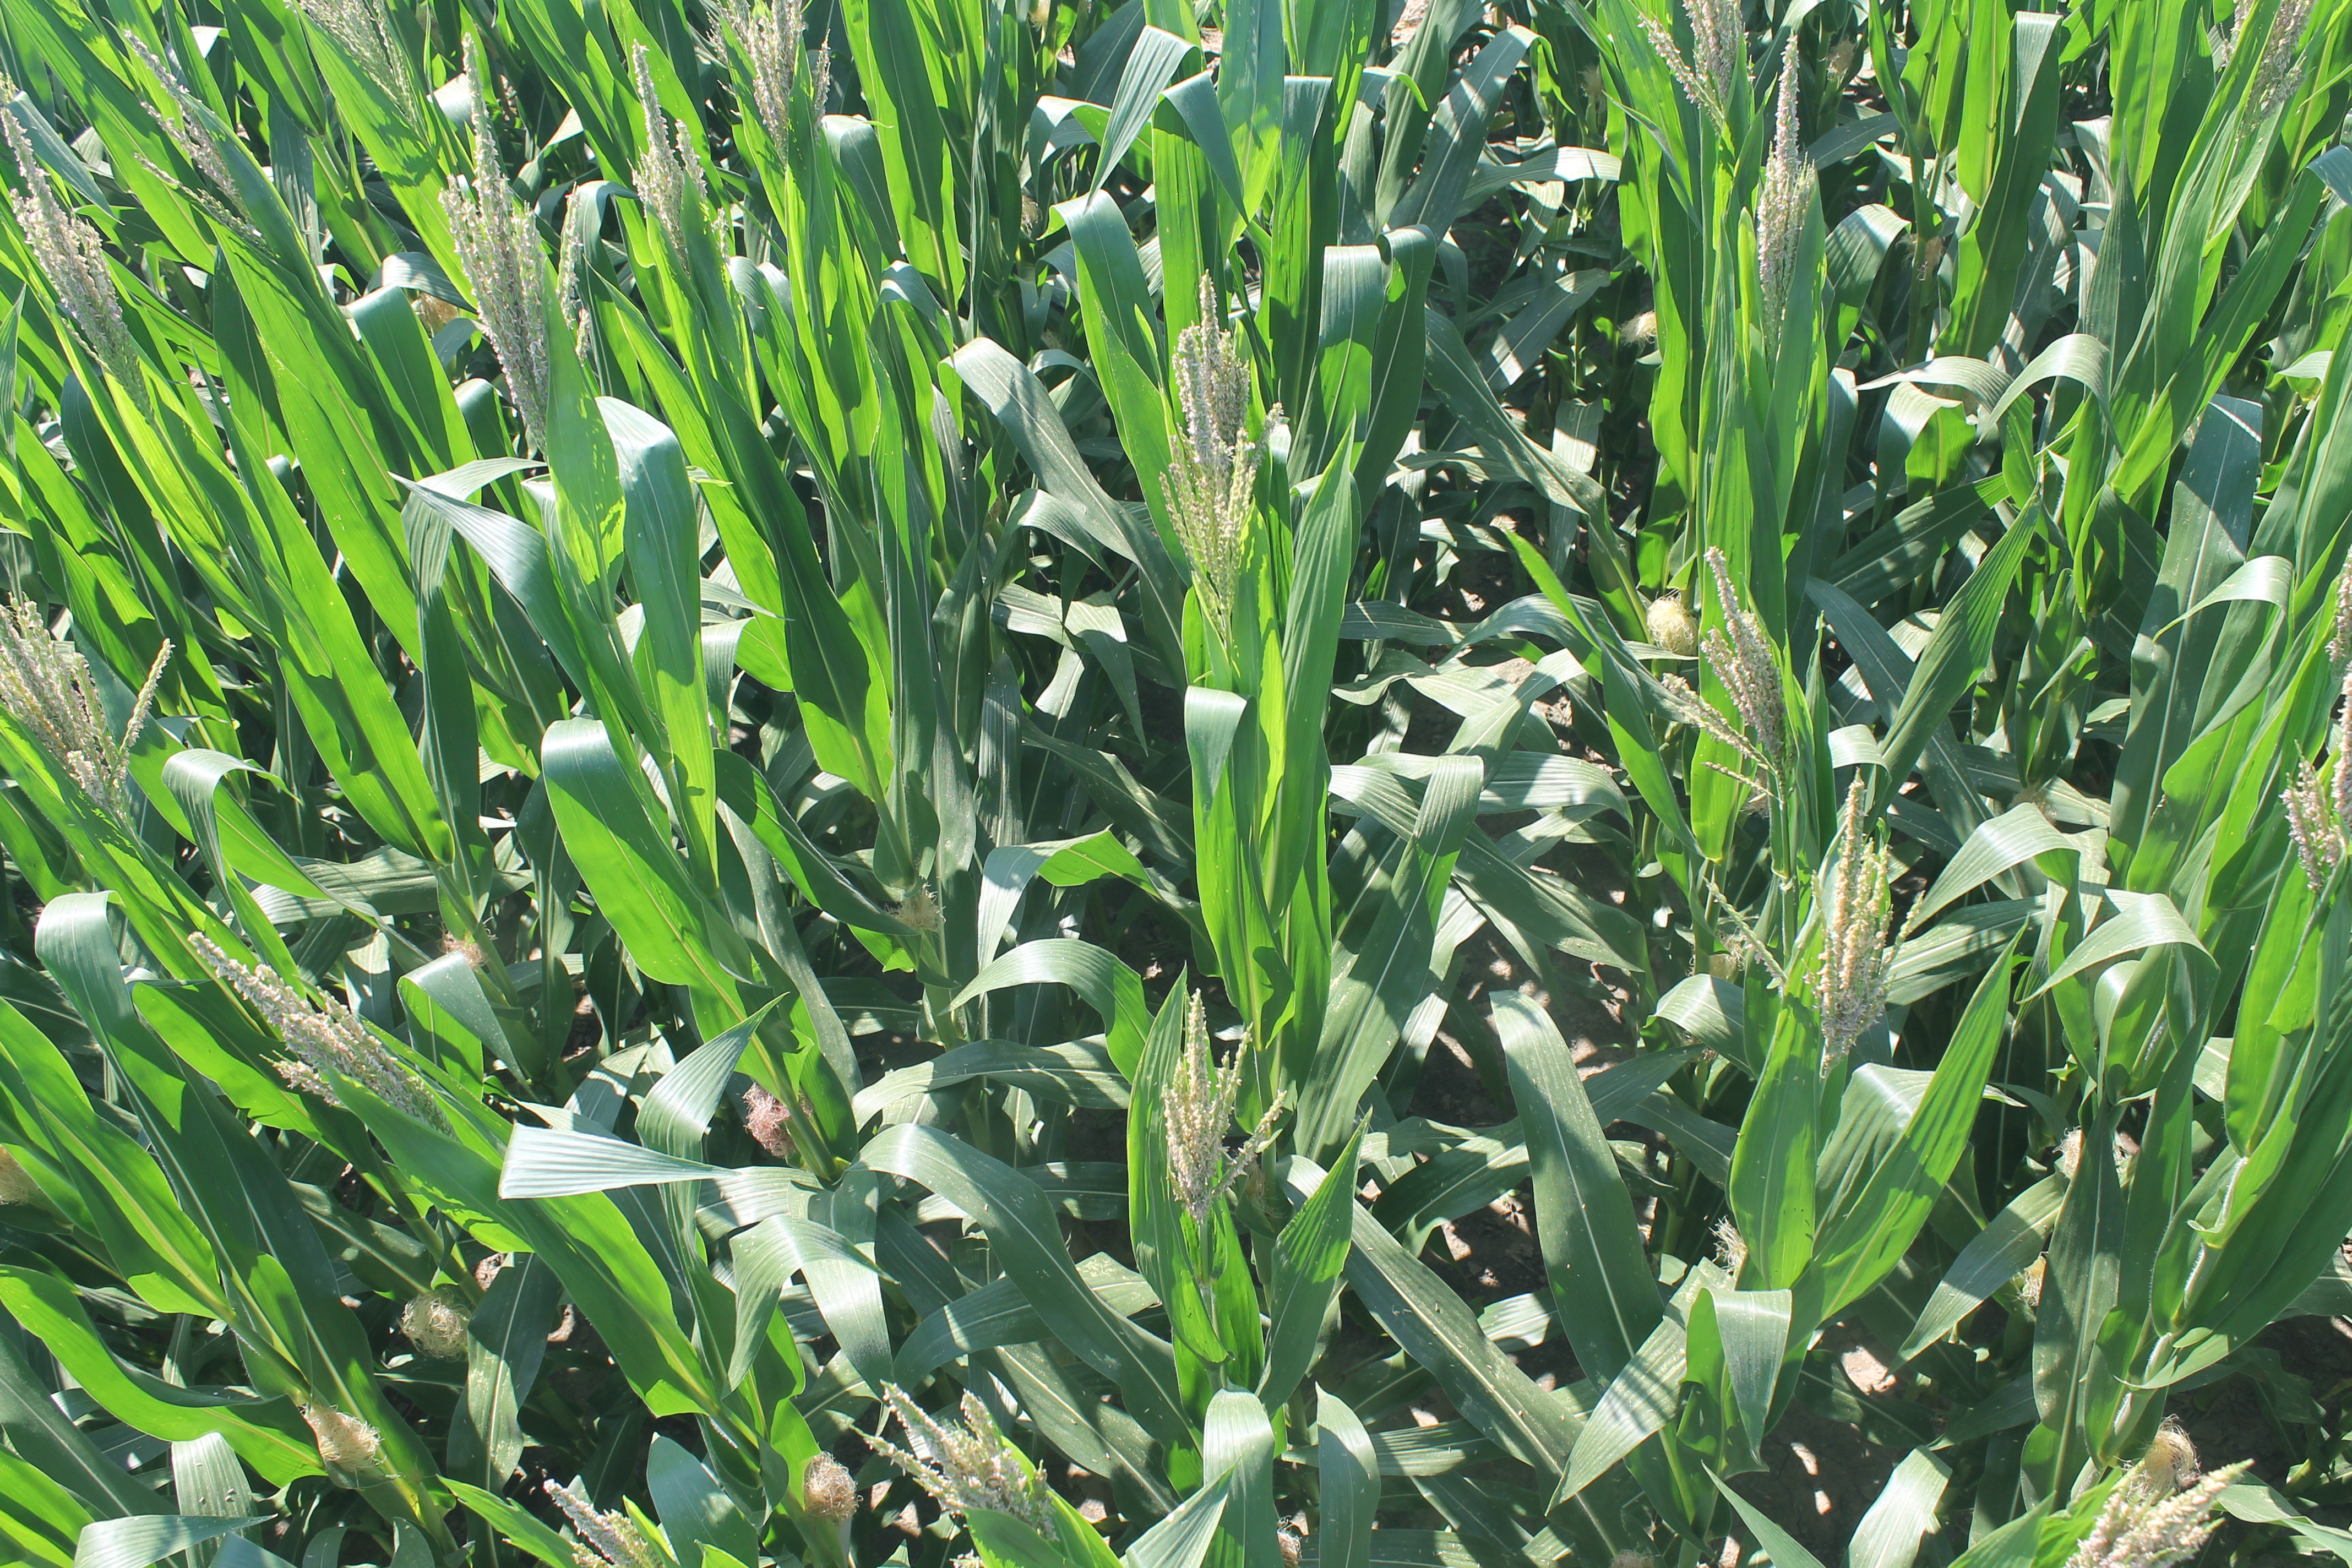Maize: (194, 927, 476, 1162), (0, 602, 219, 840), (437, 105, 576, 455), (1720, 800, 1895, 1066), (1160, 255, 1276, 602), (143, 45, 322, 268), (847, 1384, 1081, 1543), (0, 89, 115, 395), (1760, 33, 1851, 395), (1648, 558, 1792, 787), (2039, 1444, 2296, 1568), (1144, 990, 1267, 1232), (731, 0, 850, 161), (619, 56, 700, 283), (2224, 0, 2352, 140), (2268, 709, 2352, 906), (535, 1466, 682, 1568), (1664, 0, 1752, 117), (329, 0, 401, 105)
